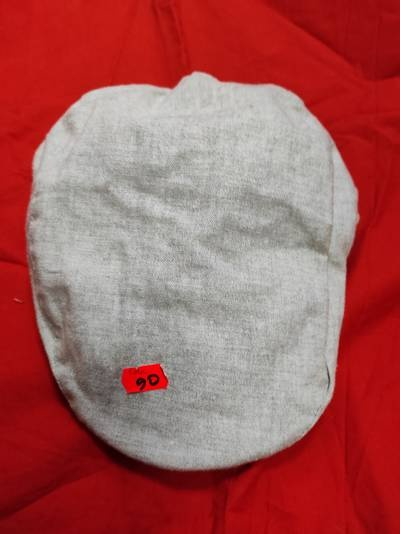Hat: (8, 44, 359, 474)
